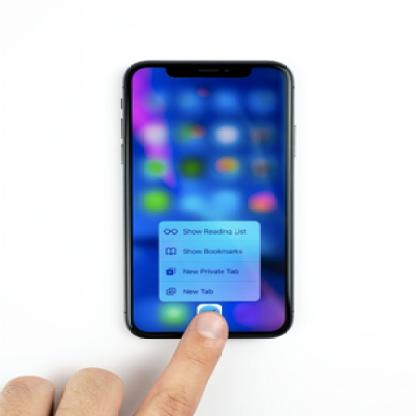cell-phone: (117, 59, 298, 342)
